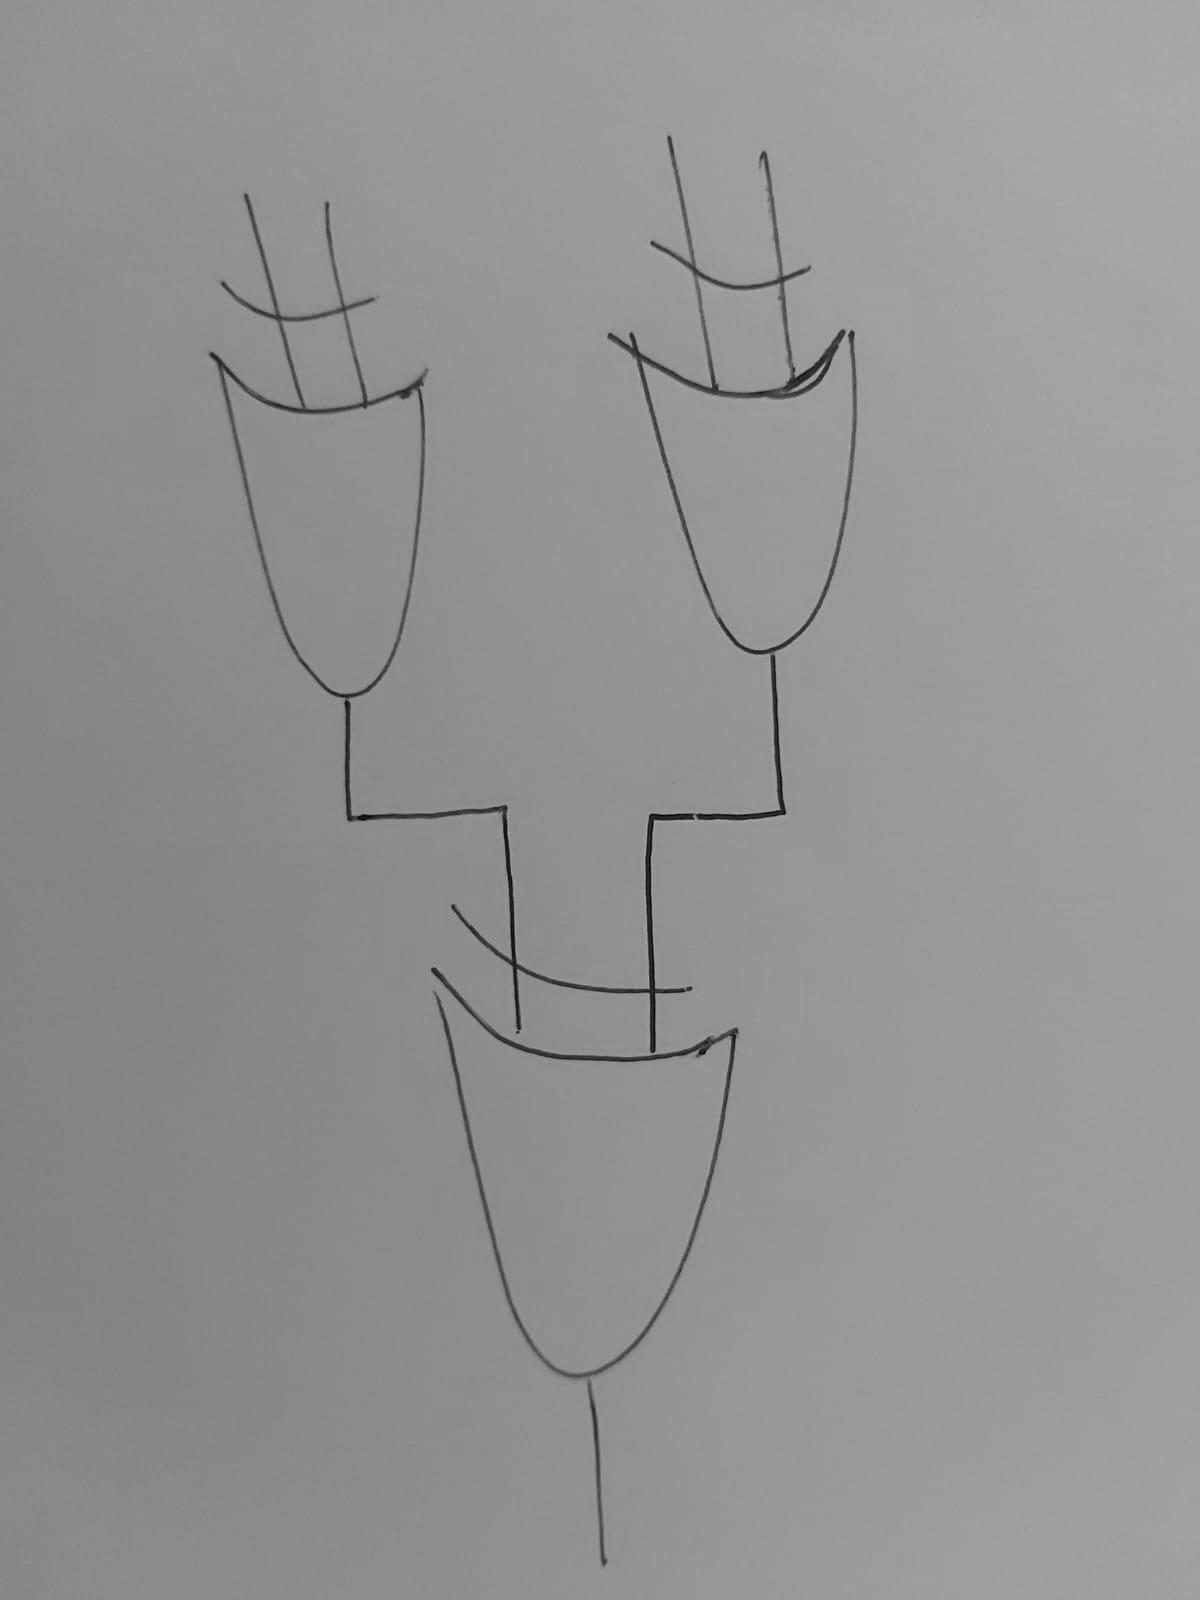XOR: (397, 867, 821, 1383), (584, 213, 987, 685), (156, 257, 523, 748)
